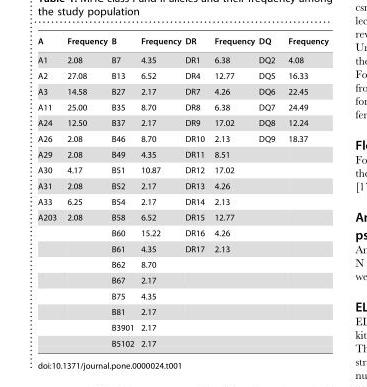table: (37, 36, 327, 347)
table column: (208, 36, 256, 347), (61, 36, 108, 347), (136, 36, 182, 347), (281, 36, 327, 347), (108, 36, 136, 347), (182, 36, 208, 347), (256, 36, 281, 347), (37, 36, 61, 347)
table column header: (37, 36, 327, 50)
table row: (37, 50, 327, 67), (37, 67, 327, 83), (37, 83, 327, 99), (37, 99, 327, 115), (37, 130, 327, 146), (37, 146, 327, 162), (37, 177, 327, 193), (37, 193, 327, 209), (37, 209, 327, 225), (37, 225, 327, 241), (37, 256, 327, 272), (37, 272, 327, 288), (37, 303, 327, 319), (37, 319, 327, 335), (37, 115, 327, 130), (37, 162, 327, 177), (37, 241, 327, 256), (37, 288, 327, 303), (37, 36, 327, 50), (37, 335, 327, 347)
table spanning cell: (37, 209, 61, 347)
